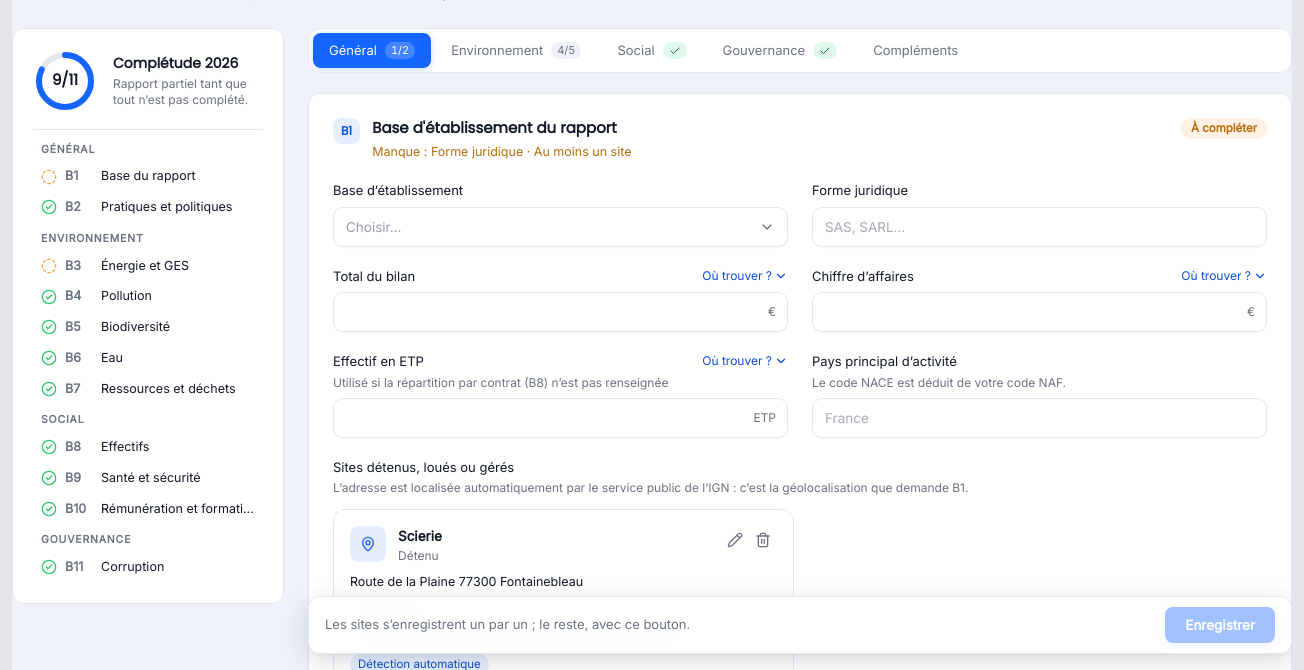
Scenario: IndicatorsPage › zone sensible détectée : la tuile du site l’annonce, et le formulaire la rappelle
expect the text "Massif de Fontainebleau (Natura 2000 Habitats, ZNIEFF 1)" is shown: met, box [350, 627, 697, 648]
Click the button named "Modifier le site Scierie": (735, 540) [721, 526, 749, 554]
(page scrolled)
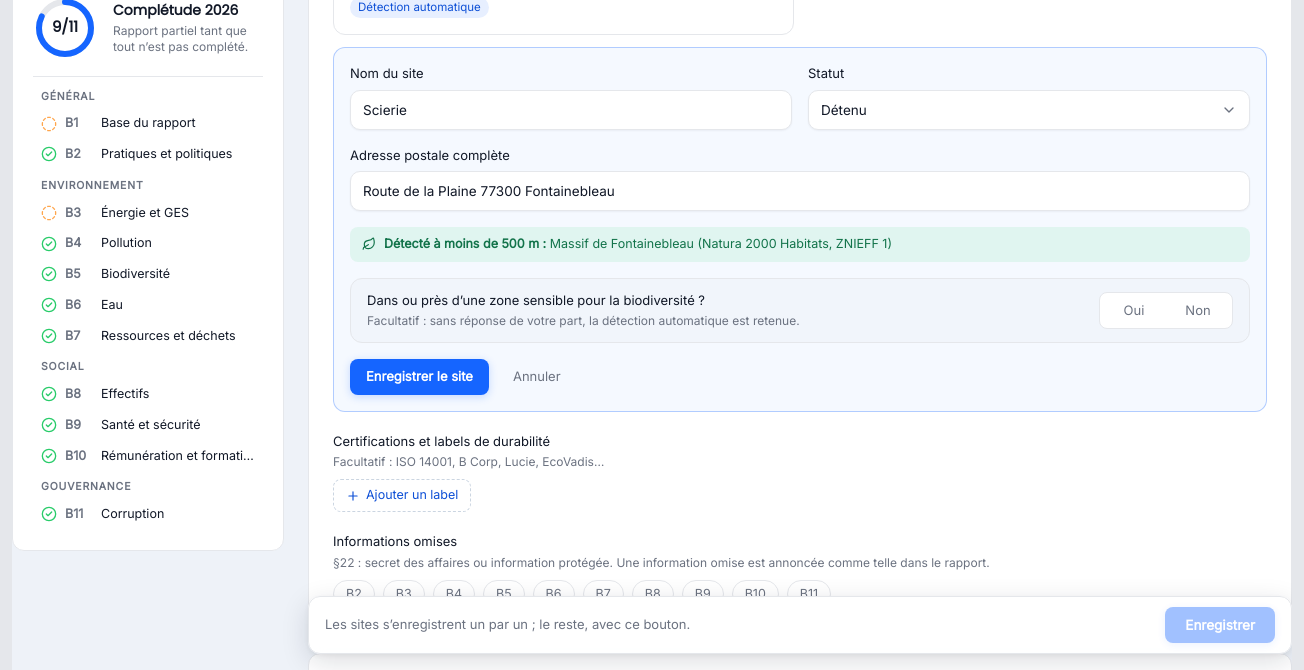
expect the button "Laisser la détection automatique répondre" is not shown: met
expect the text "Détecté à moins de 500 m :" is shown: met, box [384, 236, 546, 251]
Click the radio button labelled "Non": (1198, 311) [1166, 295, 1230, 326]
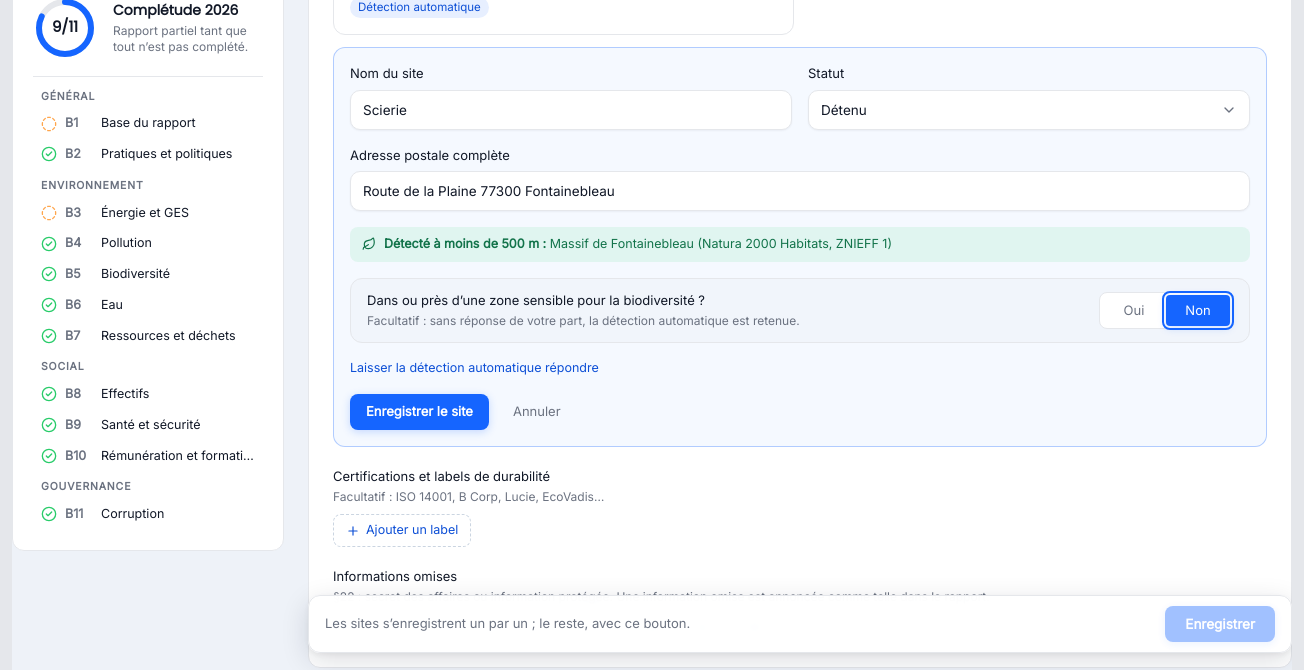
expect the button "Laisser la détection automatique répondre" is shown: met, box [350, 359, 599, 378]
